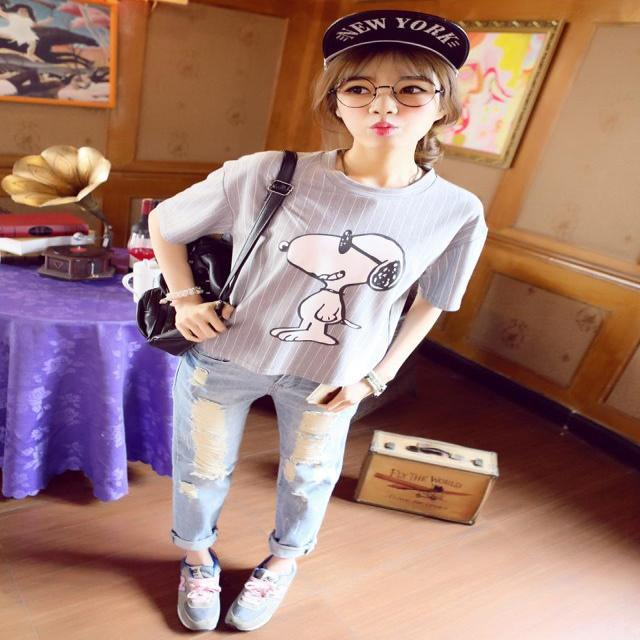short-sleeve-top: (172, 127, 503, 428)
